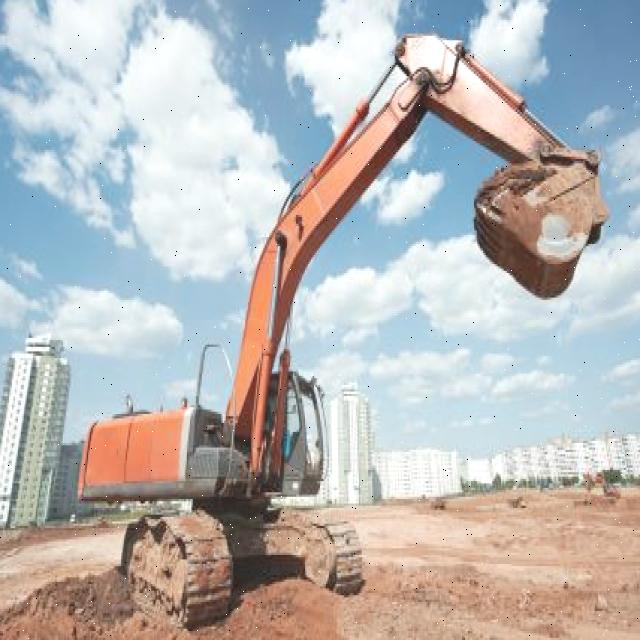Excavator: (76, 29, 612, 627)
